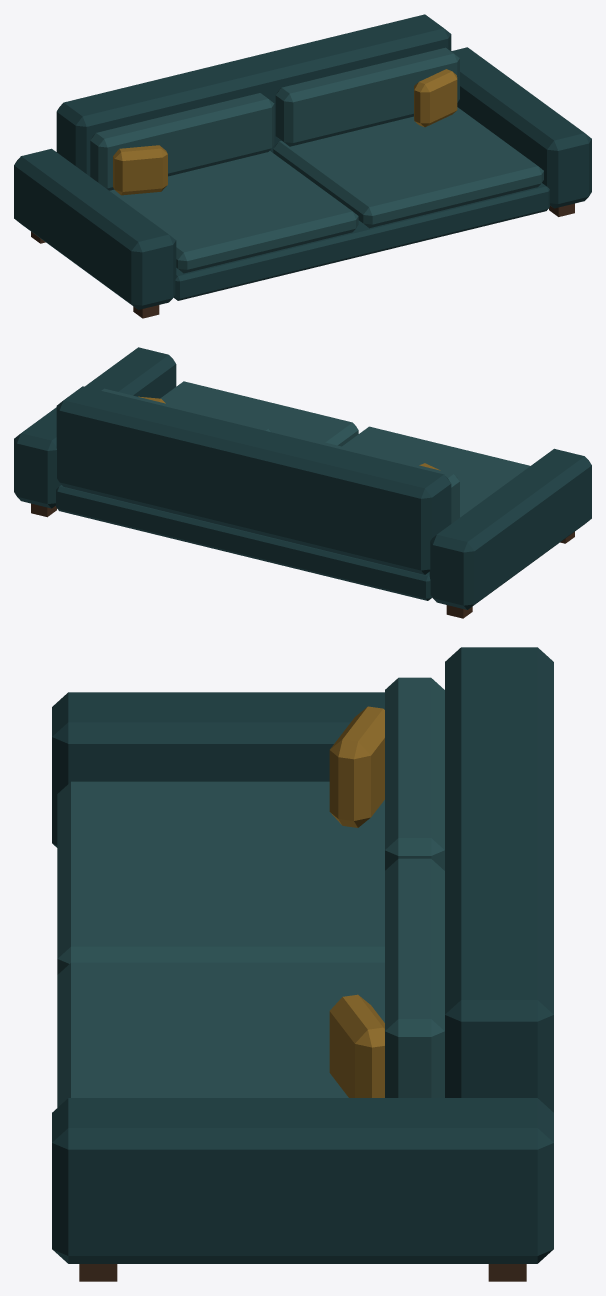
3 views of the same model, one above another, from view 1: azimuth 30°, elevation 25°; view 2: azimuth 150°, elevation 25°; view 3: azimuth 270°, elevation 25° (orthographic). The views are drawn at different scales.
Visible parts, largest first — view 1: furniture_2_sofa; view 2: furniture_2_sofa; view 3: furniture_2_sofa.
Boxes of the visible parts, x1,y1,x2,y2 form: furniture_2_sofa: [14, 14, 591, 318]; furniture_2_sofa: [14, 347, 591, 618]; furniture_2_sofa: [52, 647, 553, 1281].
Size of the model in its own units: 3.9 by 1 by 1.84.
